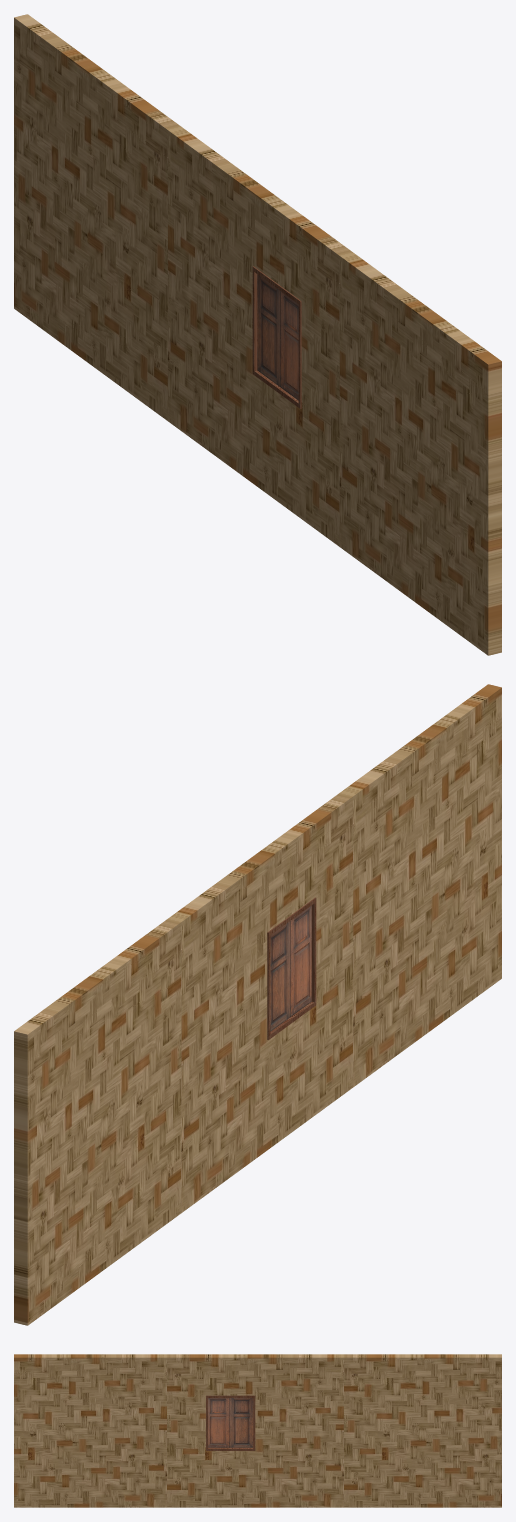
The model's file is R5_Kanan.fbx.
3 renders of one model, top to bottom at view 1: azimuth 30°, elevation 25°; view 2: azimuth 150°, elevation 25°; view 3: azimuth 270°, elevation 25°, orthographic. The views are drawn at different scales.
Parts seen in each view (by area): view 1: Kanan_R5; view 2: Kanan_R5; view 3: Kanan_R5.
Part boxes in pixels (<box>): Kanan_R5: <box>14,14,501,655</box>; Kanan_R5: <box>14,684,501,1325</box>; Kanan_R5: <box>14,1354,501,1507</box>.
Size of the model in its own units: 0.3461 by 6.1 by 18.
3 materials, 3 textured.
